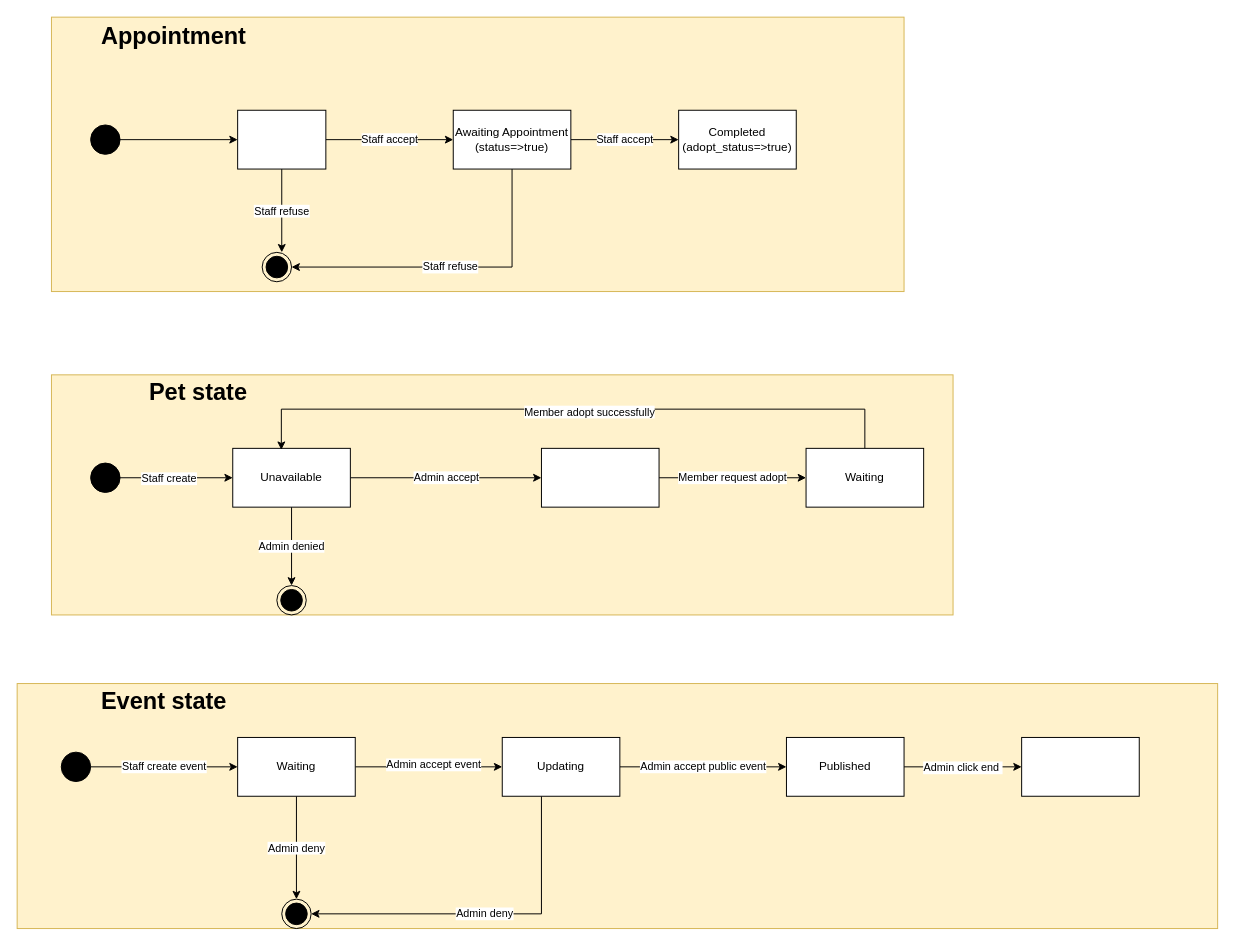
The diagram is 1235 pixels wide and 946 high, and some of its shapes have lost their labels. The centre of each missing label's shape, as x and y in pixels:
"Available" goes at pixel 599 477.
"Ended" goes at pixel 1080 766.
"Pending Confirmation" goes at pixel 281 139.
